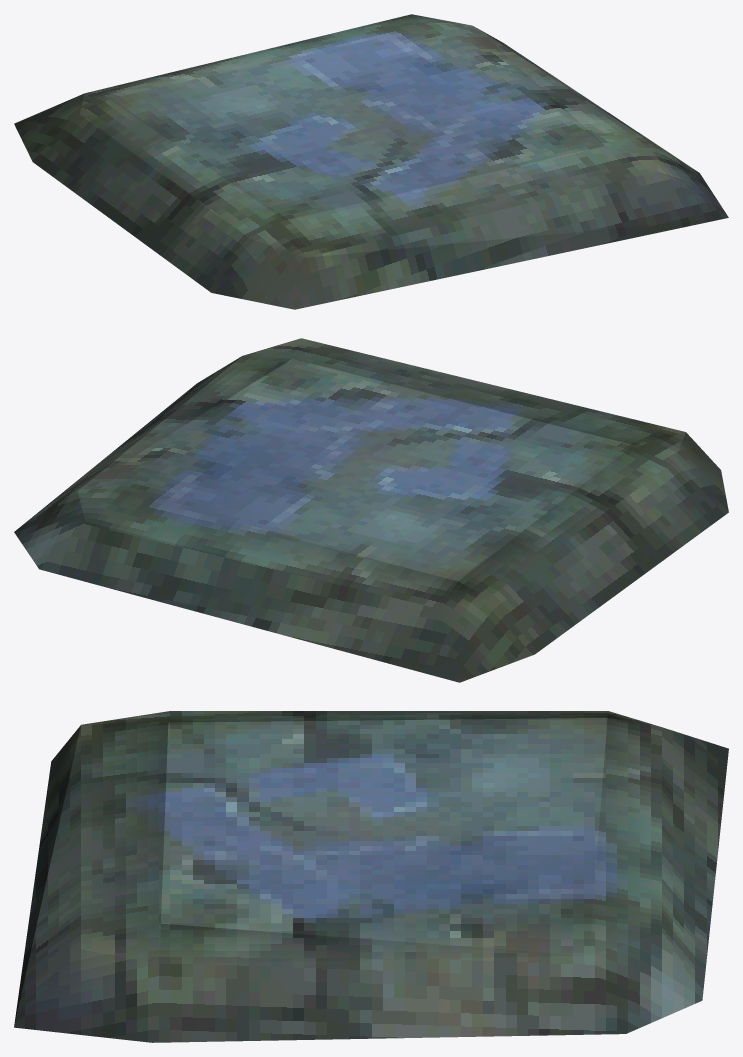
File: BlueDartPlate.obj
3 renders of one model, top to bottom at view 1: azimuth 30°, elevation 25°; view 2: azimuth 150°, elevation 25°; view 3: azimuth 270°, elevation 25°, orthographic. The views are drawn at different scales.
Visible parts, largest first — view 1: mesh_189; view 2: mesh_189; view 3: mesh_189.
Part boxes in pixels (x1,y1,x2,y2): mesh_189: (14,14,728,309); mesh_189: (14,338,728,682); mesh_189: (14,711,728,1042).
Size of the model in its own units: 1.13 by 0.1046 by 1.1.
1 material, 1 textured.
